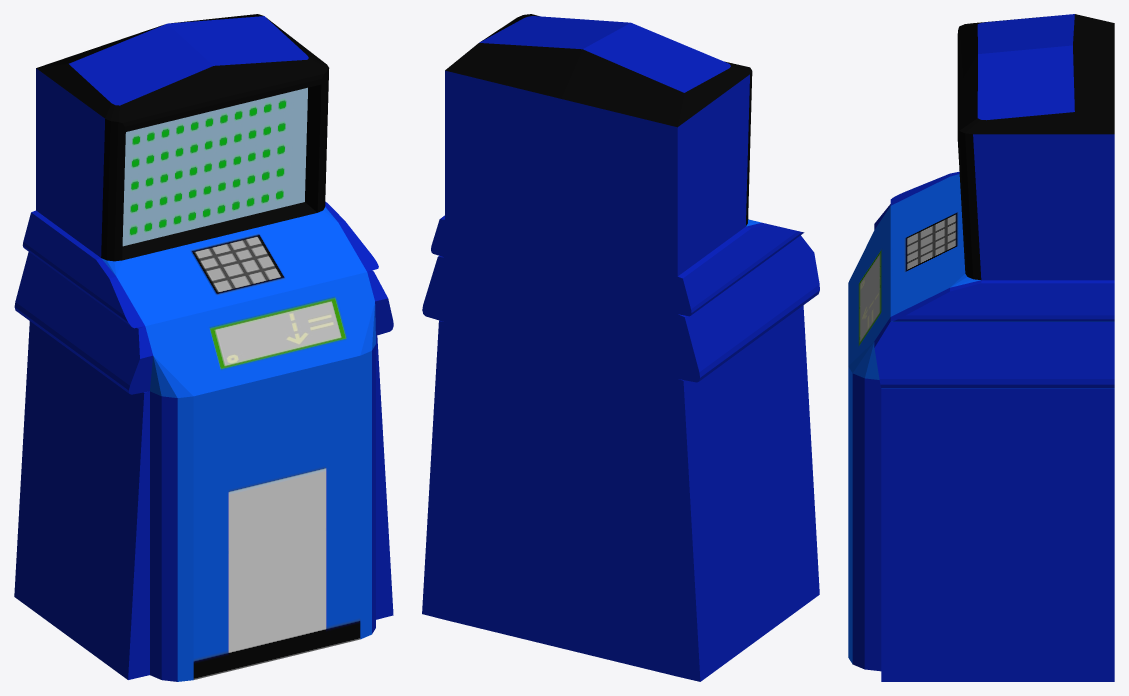
The model's file is ATM.fbx.
3 renders of one model, left to right at view 1: azimuth 30°, elevation 25°; view 2: azimuth 150°, elevation 25°; view 3: azimuth 270°, elevation 25°, orthographic. The views are drawn at different scales.
Visible parts, largest first — view 1: ATM; view 2: ATM; view 3: ATM.
Part boxes in pixels (x1,y1,x2,y2): ATM: (14,14,393,681); ATM: (422,14,819,681); ATM: (848,14,1114,681).
Size of the model in its own units: 93.72 by 188 by 79.45.
